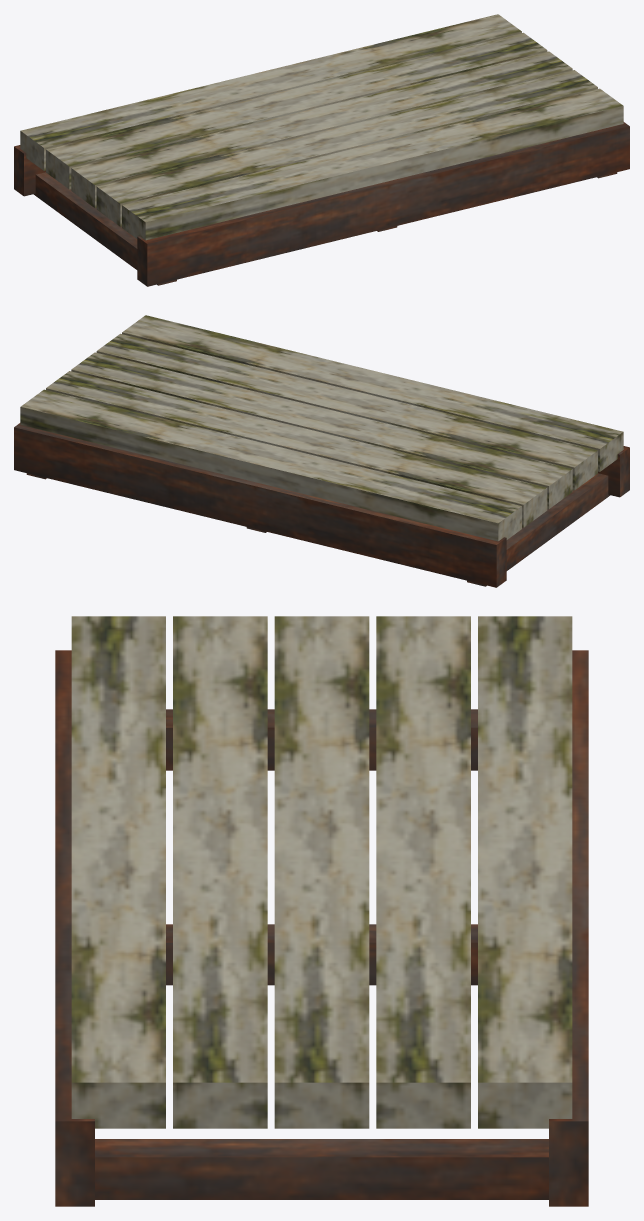
The model's file is Catwalk_Deck_3m.glb.
3 renders of one model, top to bottom at view 1: azimuth 30°, elevation 25°; view 2: azimuth 150°, elevation 25°; view 3: azimuth 270°, elevation 25°, orthographic. The views are drawn at different scales.
Visible parts, largest first — view 1: Catwalk_Deck_3m; view 2: Catwalk_Deck_3m; view 3: Catwalk_Deck_3m.
Boxes of the visible parts, bbox=[...] form: Catwalk_Deck_3m: bbox=[14, 14, 629, 286]; Catwalk_Deck_3m: bbox=[14, 315, 629, 587]; Catwalk_Deck_3m: bbox=[55, 616, 588, 1206].
Bounding box in the file's own units: 3.07 × 0.385 × 1.47.
Materials: 1 (1 with a texture image).
